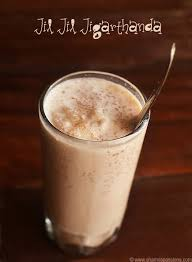jigirthanda: (42, 74, 140, 244)
